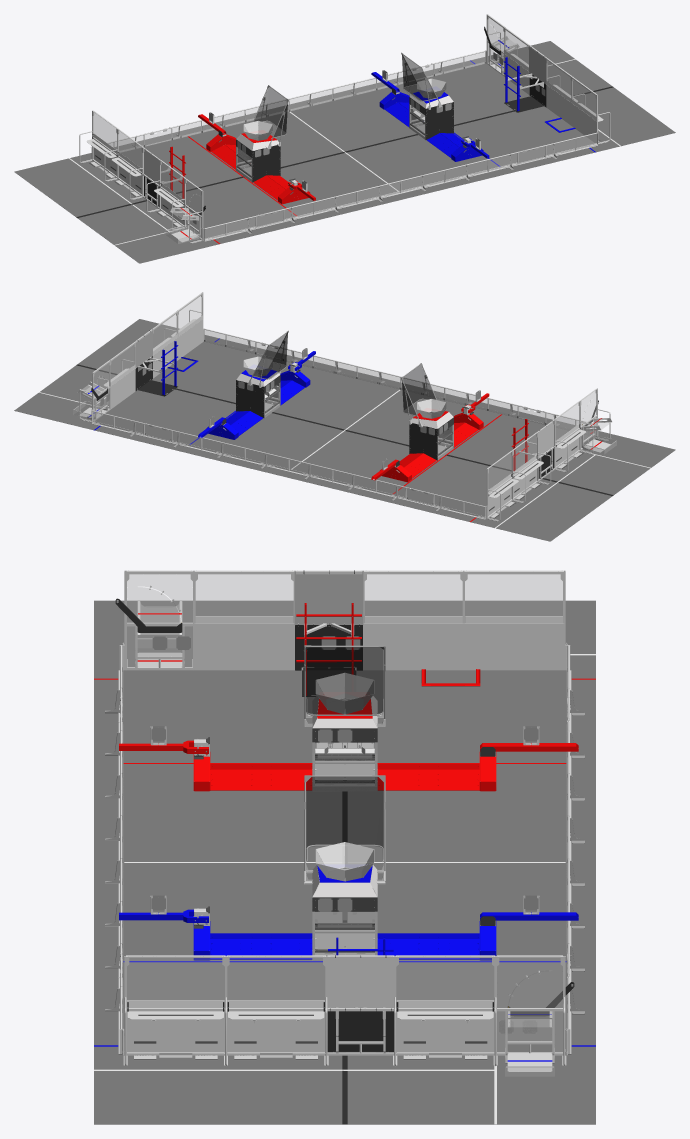
3 renders of one model, top to bottom at view 1: azimuth 30°, elevation 25°; view 2: azimuth 150°, elevation 25°; view 3: azimuth 270°, elevation 25°, orthographic. The views are drawn at different scales.
Visible parts, largest first — view 1: FE-2026-01: Playing Field Carpet (×2), FE-00010: Field Plastic "C" (×8), FE-00012: Driver Station Acrylic (×6), GE-26318: Hub Net (Aesthetic) (×2), FE-00004-01: 3/16" Diamond Plate Sheet, 6061 Aluminum (×3), GE-26327-Vinyl: Hub Side Panel Vinyl (×2), GE-26506: Tower Upper Plastic (×2), GE-26003: Outpost Upper Panel Assy <1> (×2), Gaffer Tape, Black, 4in Wide, 888in Long, GE-26511-Vinyl: Tower Upper Plastic Vinyl, GE-26328: Hub Front Panel, Bottom, GE-26101: Bump Plastic; view 2: FE-2026-01: Playing Field Carpet (×2), FE-00012: Driver Station Acrylic (×6), FE-00010: Field Plastic "C" (×6), GE-26318: Hub Net (Aesthetic) (×2), FE-00004-01: 3/16" Diamond Plate Sheet, 6061 Aluminum (×3), GE-26327-Vinyl: Hub Side Panel Vinyl (×2), GE-26506: Tower Upper Plastic (×2), Gaffer Tape, Black, 4in Wide, 888in Long, GE-26003: Outpost Upper Panel Assy <1>, GE-26511-Vinyl: Tower Upper Plastic Vinyl, GE-26328: Hub Front Panel, Bottom, GE-26101: Bump Plastic; view 3: FE-2026-01: Playing Field Carpet (×2), FE-00012: Driver Station Acrylic (×6), FE-00004-01: 3/16" Diamond Plate Sheet, 6061 Aluminum (×6), GE-26318: Hub Net (Aesthetic) (×2), GE-26101: Bump Plastic (×4), GE-26506: Tower Upper Plastic (×2), GE-26003: Outpost Upper Panel Assy <1> (×2), GE-26505: Tower Lower Plastic (×2), GE-26002: Outpost Lower Panel (×2), GE-26511-Vinyl: Tower Upper Plastic Vinyl, GE-26328: Hub Front Panel, Bottom, GE-26301-01: Hub Base (×2) (+4 smaller).
Boxes of the visible parts, bbox=[...] form: FE-2026-01: Playing Field Carpet (×2): bbox=[14, 41, 675, 263]; FE-00010: Field Plastic "C" (×8): bbox=[202, 78, 487, 211]; FE-00012: Driver Station Acrylic (×6): bbox=[94, 29, 596, 198]; GE-26318: Hub Net (Aesthetic) (×2): bbox=[254, 54, 436, 137]; FE-00004-01: 3/16" Diamond Plate Sheet, 6061 Aluminum (×3): bbox=[504, 54, 596, 143]; GE-26327-Vinyl: Hub Side Panel Vinyl (×2): bbox=[252, 102, 453, 182]; GE-26506: Tower Upper Plastic (×2): bbox=[144, 46, 546, 184]; GE-26003: Outpost Upper Panel Assy <1> (×2): bbox=[186, 16, 503, 215]; Gaffer Tape, Black, 4in Wide, 888in Long: bbox=[76, 86, 613, 217]; GE-26511-Vinyl: Tower Upper Plastic Vinyl: bbox=[529, 47, 545, 83]; GE-26328: Hub Front Panel, Bottom: bbox=[236, 147, 251, 181]; GE-26101: Bump Plastic: bbox=[427, 133, 458, 157]; FE-2026-01: Playing Field Carpet (×2): bbox=[14, 319, 675, 541]; FE-00012: Driver Station Acrylic (×6): bbox=[111, 295, 578, 489]; FE-00010: Field Plastic "C" (×6): bbox=[202, 356, 487, 489]; GE-26318: Hub Net (Aesthetic) (×2): bbox=[253, 332, 435, 415]; FE-00004-01: 3/16" Diamond Plate Sheet, 6061 Aluminum (×3): bbox=[110, 320, 202, 409]; GE-26327-Vinyl: Hub Side Panel Vinyl (×2): bbox=[236, 380, 437, 460]; GE-26506: Tower Upper Plastic (×2): bbox=[135, 330, 553, 456]; Gaffer Tape, Black, 4in Wide, 888in Long: bbox=[76, 364, 613, 495]; GE-26003: Outpost Upper Panel Assy <1>: bbox=[93, 362, 110, 399]; GE-26511-Vinyl: Tower Upper Plastic Vinyl: bbox=[136, 331, 152, 367]; GE-26328: Hub Front Panel, Bottom: bbox=[438, 425, 453, 459]; GE-26101: Bump Plastic: bbox=[231, 411, 262, 435]; FE-2026-01: Playing Field Carpet (×2): bbox=[94, 600, 595, 1124]; FE-00012: Driver Station Acrylic (×6): bbox=[127, 572, 563, 1000]; FE-00004-01: 3/16" Diamond Plate Sheet, 6061 Aluminum (×6): bbox=[127, 625, 564, 1052]; GE-26318: Hub Net (Aesthetic) (×2): bbox=[306, 647, 383, 847]; GE-26101: Bump Plastic (×4): bbox=[210, 769, 479, 959]; GE-26506: Tower Upper Plastic (×2): bbox=[294, 571, 394, 1007]; GE-26003: Outpost Upper Panel Assy <1> (×2): bbox=[126, 572, 562, 1007]; GE-26505: Tower Lower Plastic (×2): bbox=[295, 625, 393, 1052]; GE-26002: Outpost Lower Panel (×2): bbox=[126, 626, 562, 1051]; GE-26511-Vinyl: Tower Upper Plastic Vinyl: bbox=[295, 572, 362, 624]; GE-26328: Hub Front Panel, Bottom: bbox=[312, 912, 377, 960]; GE-26301-01: Hub Base (×2): bbox=[312, 760, 377, 960].
Bounding box in the file's own units: 22.56 × 3.06 × 9.14.
